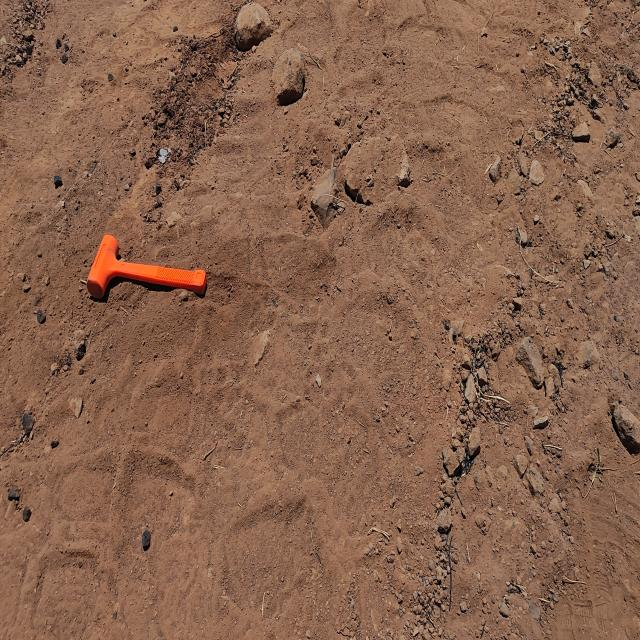Orange_hammer: (85, 232, 207, 300)
